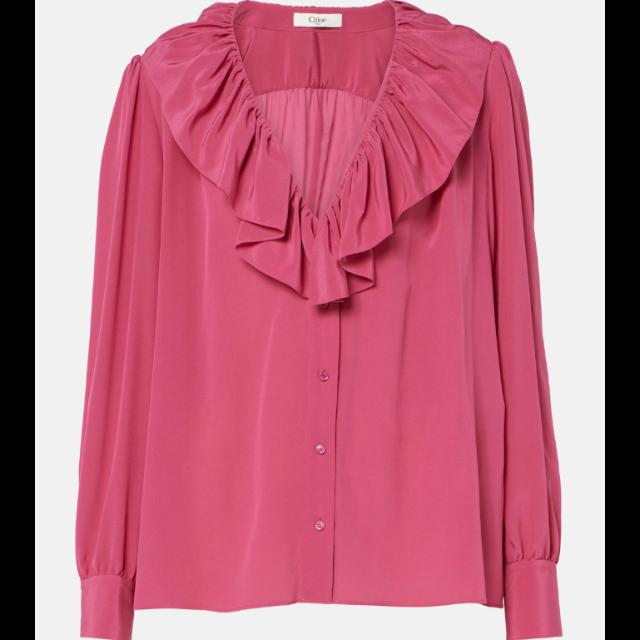top: (77, 6, 571, 636)
